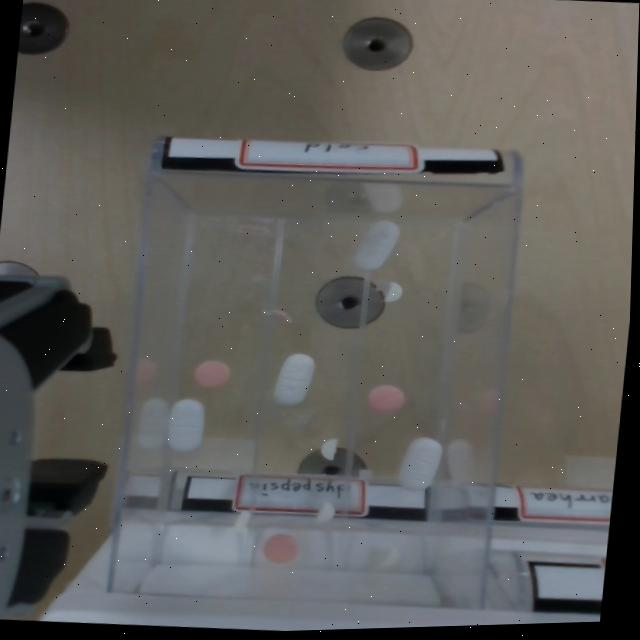amoxicle_tab: (351, 220, 399, 270), (397, 436, 441, 488), (273, 352, 314, 404), (167, 398, 203, 451)
panstar_tab: (192, 359, 230, 387), (262, 533, 298, 562), (367, 384, 404, 411)
sudafed_tab: (318, 438, 337, 459), (316, 500, 334, 522), (384, 281, 402, 302)
